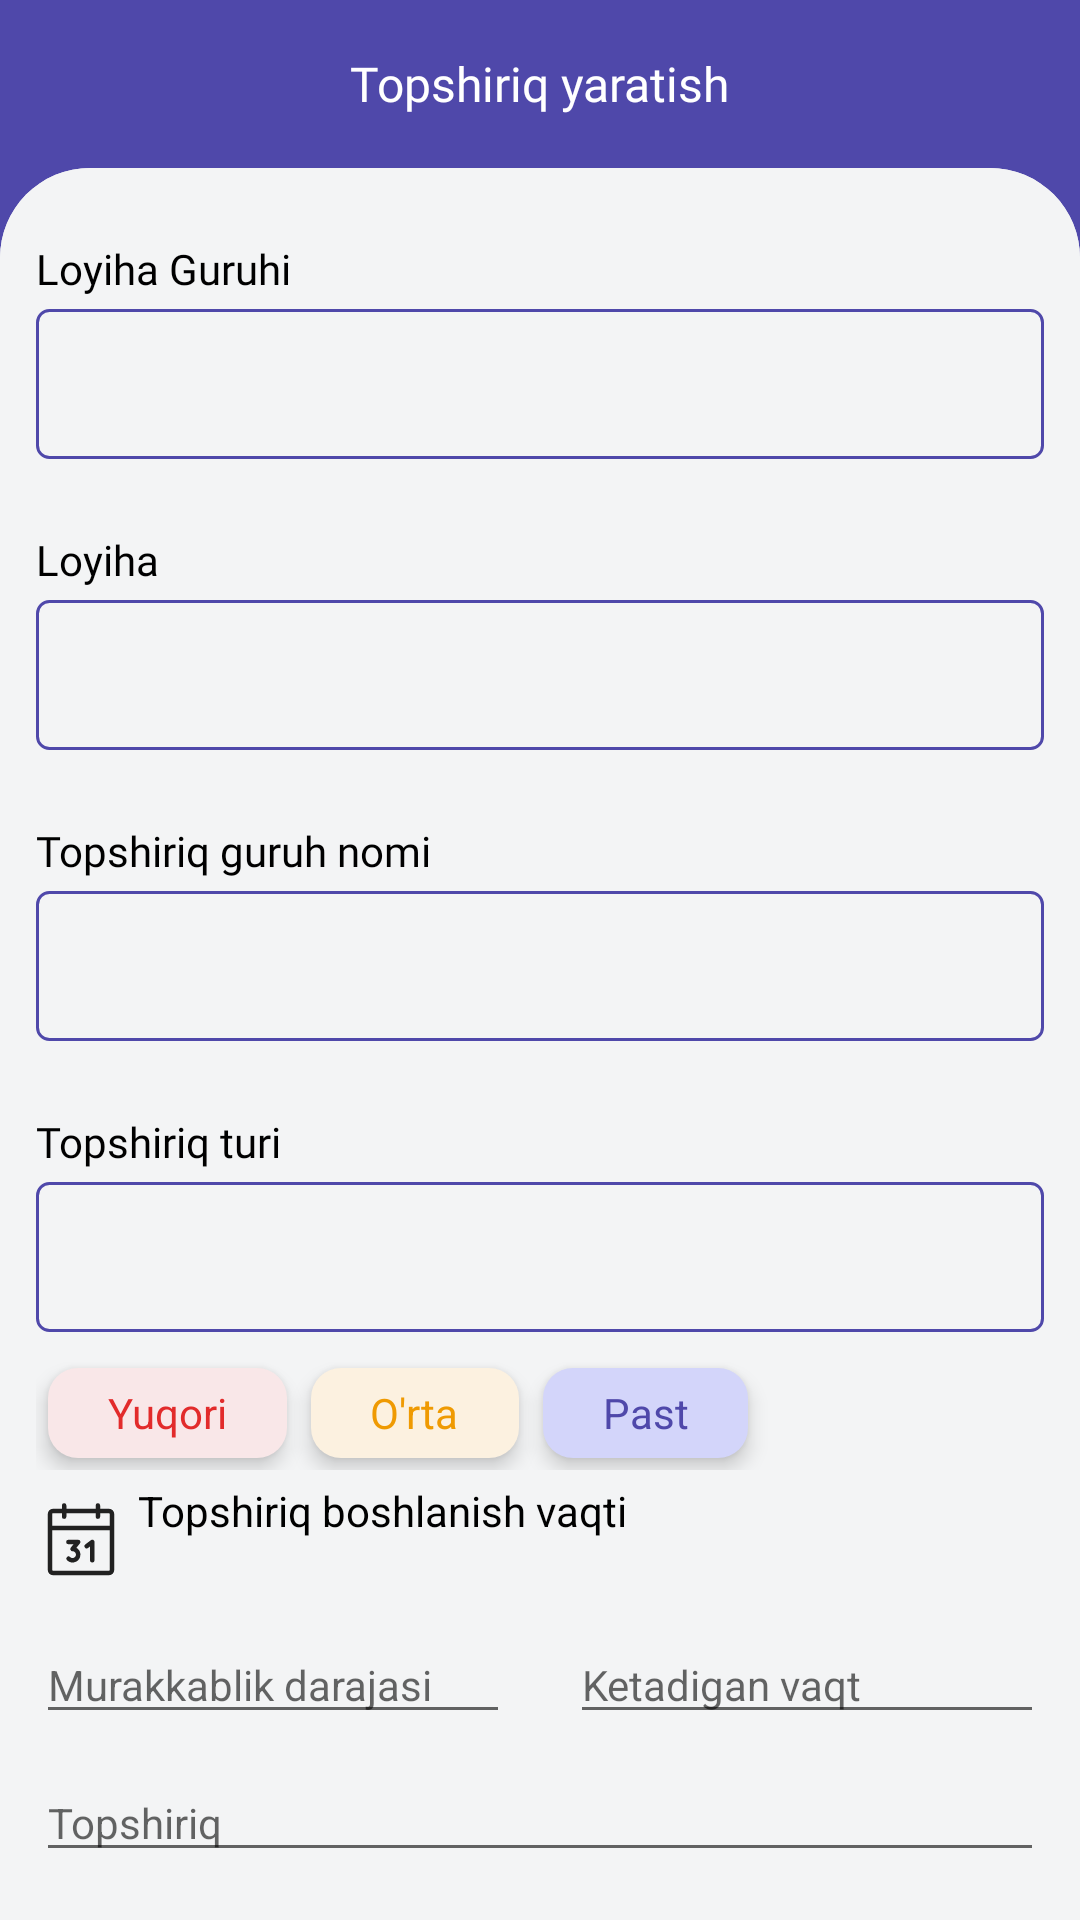

Locate icon controls on the screen. Image size 1080×1920, boxes as (x1, y1, x2, y2).
calendar: (47, 1503, 115, 1576)
